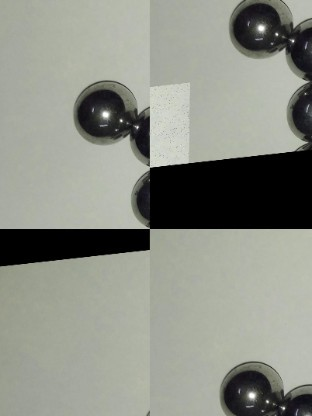ironball: (225, 0, 294, 60), (72, 76, 134, 141), (215, 359, 282, 415), (282, 75, 310, 147), (132, 102, 154, 167), (288, 16, 310, 78), (129, 165, 150, 223), (278, 388, 311, 415)
